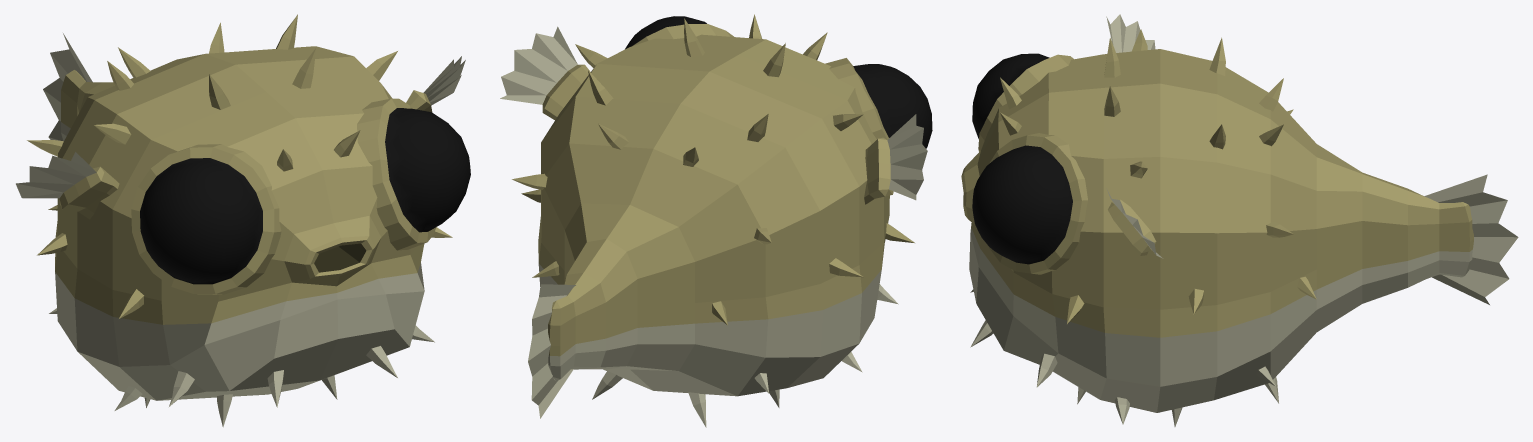
The model's file is Puffer.glb.
The picture shows the model from 3 angles, left to right: view 1: azimuth 30°, elevation 25°; view 2: azimuth 150°, elevation 25°; view 3: azimuth 270°, elevation 25°; orthographic projection. The views are drawn at different scales.
Visible parts, largest first — view 1: Puffer; view 2: Puffer; view 3: Puffer.
Part boxes in pixels (bbox=[...]): Puffer: bbox=[16, 14, 470, 427]; Puffer: bbox=[500, 14, 932, 427]; Puffer: bbox=[961, 14, 1518, 426].
Size of the model in its own units: 3.47 by 2.62 by 4.02.
